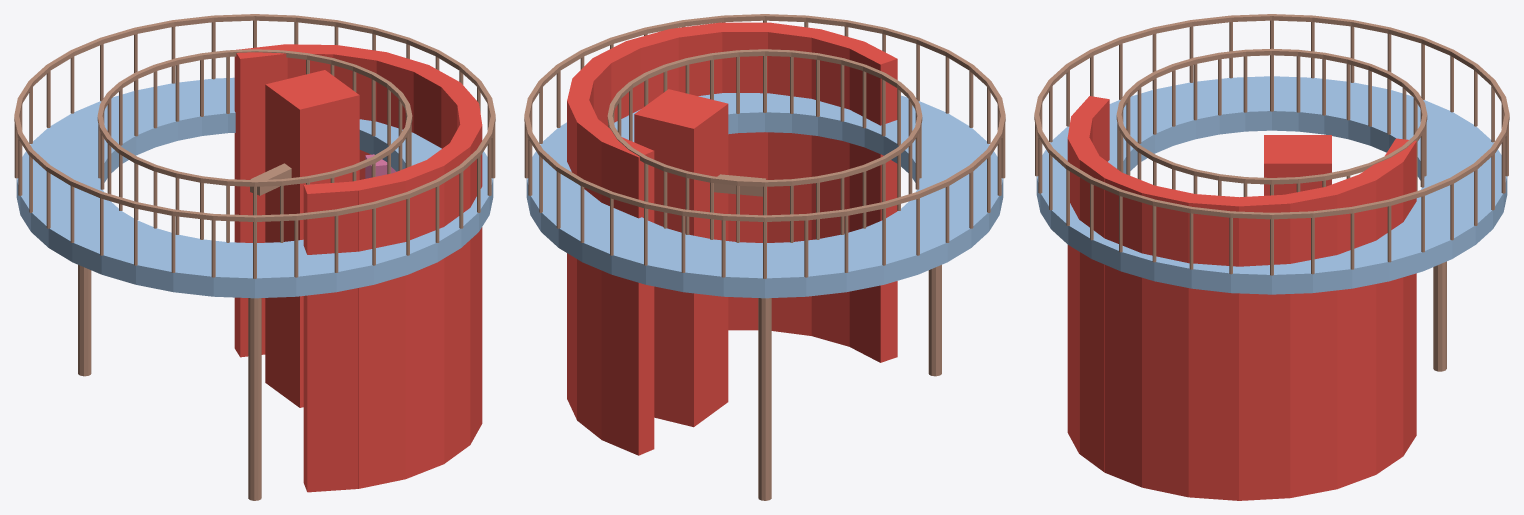
File: folie_tag_100.glb
3 renders of one model, left to right at view 1: azimuth 30°, elevation 25°; view 2: azimuth 150°, elevation 25°; view 3: azimuth 270°, elevation 25°, orthographic.
Parts seen in each view (by area): view 1: folie_tag_100_01_curve, folie_tag_100_00_ring, folie_tag_100_line, folie_tag_100_core; view 2: folie_tag_100_01_curve, folie_tag_100_00_ring, folie_tag_100_line, folie_tag_100_core; view 3: folie_tag_100_01_curve, folie_tag_100_00_ring, folie_tag_100_line, folie_tag_100_core.
Part boxes in pixels (bbox=[...]): folie_tag_100_01_curve: bbox=[234, 44, 482, 492]; folie_tag_100_00_ring: bbox=[16, 77, 493, 298]; folie_tag_100_line: bbox=[14, 14, 495, 500]; folie_tag_100_core: bbox=[265, 70, 359, 407]; folie_tag_100_01_curve: bbox=[567, 22, 897, 455]; folie_tag_100_00_ring: bbox=[526, 93, 1003, 298]; folie_tag_100_line: bbox=[524, 14, 1005, 500]; folie_tag_100_core: bbox=[634, 89, 728, 427]; folie_tag_100_01_curve: bbox=[1067, 96, 1416, 500]; folie_tag_100_00_ring: bbox=[1036, 76, 1507, 294]; folie_tag_100_line: bbox=[1034, 14, 1509, 371]; folie_tag_100_core: bbox=[1264, 135, 1331, 195].
Size of the model in its own units: 7.68 by 5.26 by 7.68.
